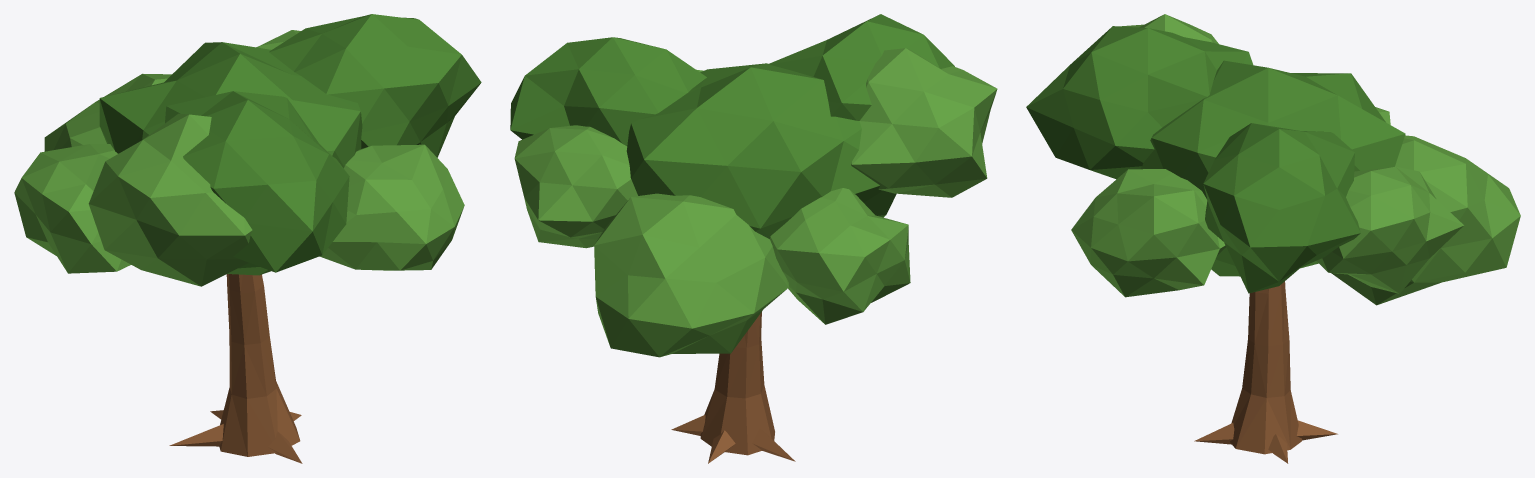
Rendered from HS_LP_Tree_Chestnut_01.fbx.
3 views of the same model, side by side, from view 1: azimuth 30°, elevation 25°; view 2: azimuth 150°, elevation 25°; view 3: azimuth 270°, elevation 25° (orthographic). The views are drawn at different scales.
Visible parts, largest first — view 1: HS_LP_Tree_Chestnut_01; view 2: HS_LP_Tree_Chestnut_01; view 3: HS_LP_Tree_Chestnut_01.
Part boxes in pixels (x1,y1,x2,y2): HS_LP_Tree_Chestnut_01: (14,14,481,463); HS_LP_Tree_Chestnut_01: (510,14,997,463); HS_LP_Tree_Chestnut_01: (1026,14,1520,463).
Bounding box in the file's own units: 602 × 555 × 650.
